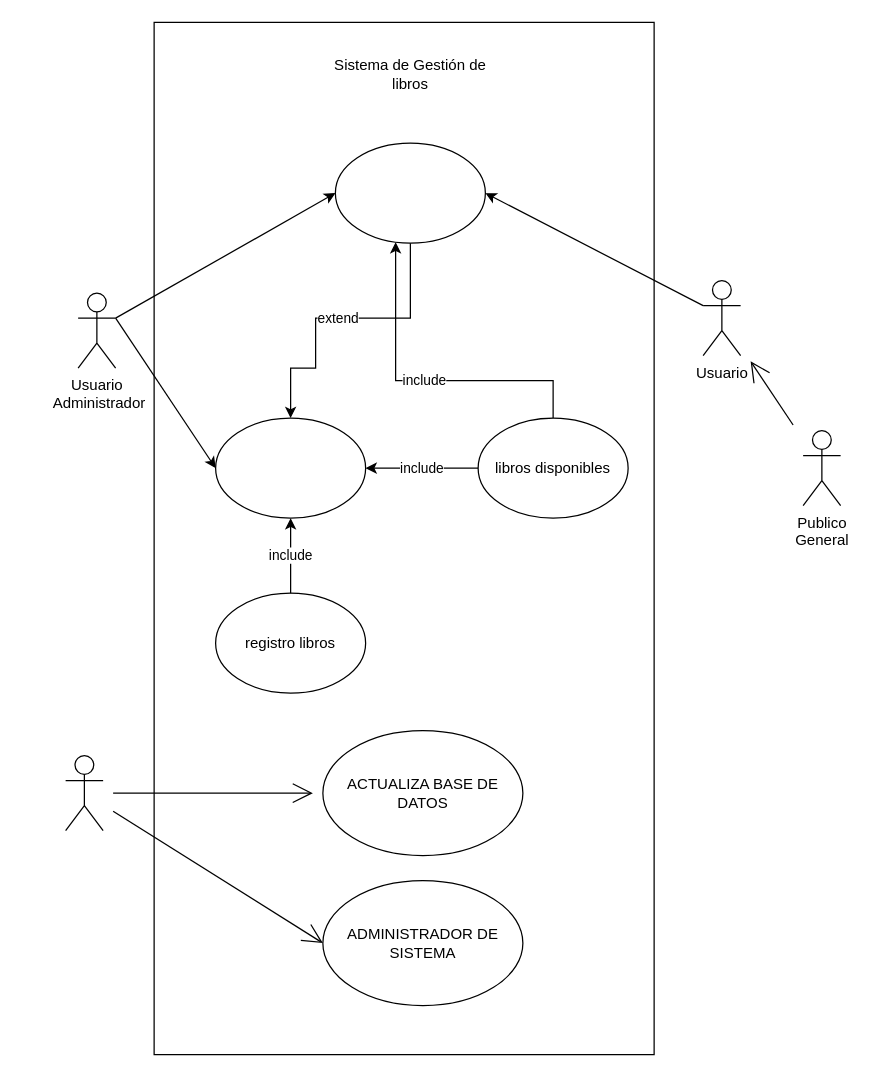
The diagram is 870 pixels wide and 1076 high, and some of its shapes have lost their labels. The shapes that lost their labels are listed below. From the top down, each one's centre as x and y in pixels, then its label:
At (x=409, y=192): "Inicio sesion".
At (x=290, y=467): "genera informe".
At (x=83, y=792): "DATA BASE ADMINISTRADOR".
